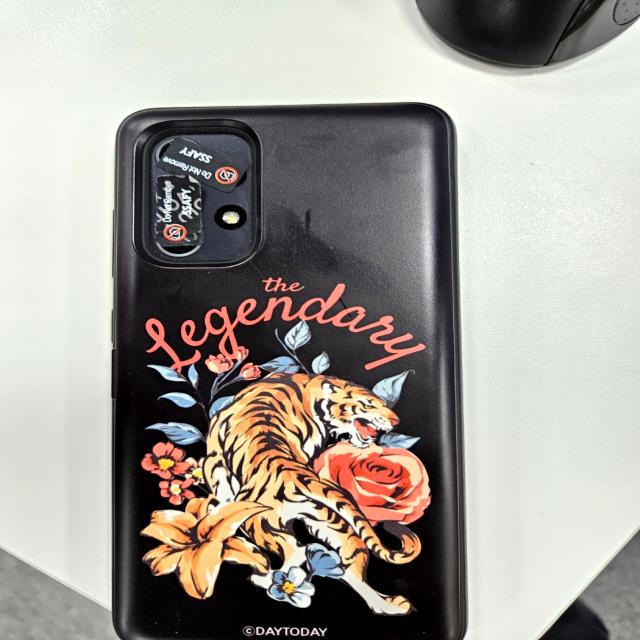phone: (118, 100, 465, 640)
removed_sticker: (156, 175, 199, 242)
sticker: (164, 140, 246, 185)
